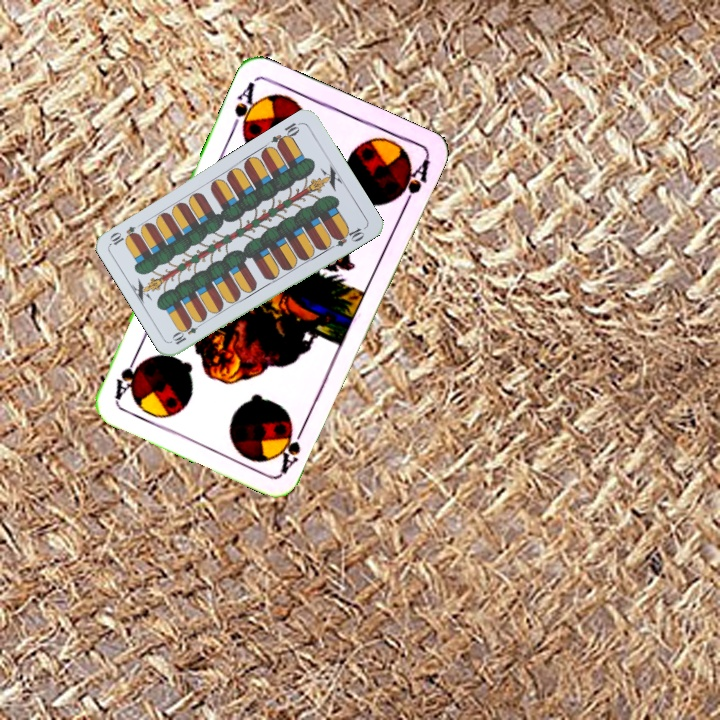E10: (267, 118, 304, 150), (168, 317, 206, 347)
SA: (227, 77, 262, 138), (277, 419, 309, 476)
